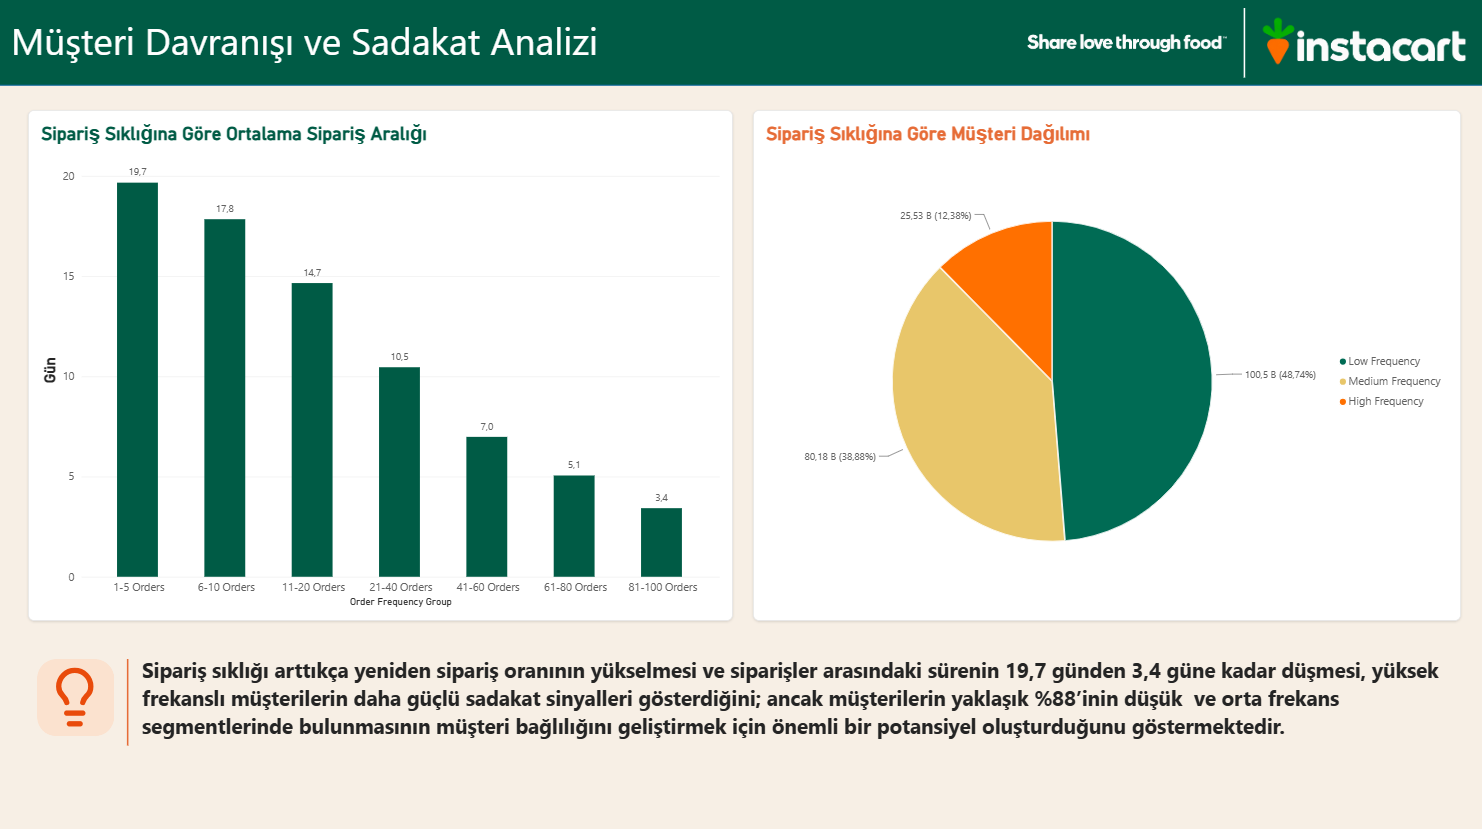

What the dashboard file says about the page in this screenshot:
{"tool":"powerbi","page":{"name":"Müşteri Davranışı ve Sadakat Analizi","canvas":[1920,1080],"ordinal":5},"visuals":[{"type":"image","box":[1323.3,0,271.4,112.3],"z":0,"group":"g1"},{"type":"clusteredColumnChart","title":"Sipariş Sıklığına Göre Ortalama Sipariş Aralığı","fields":{"Category":["mart_customer_behavior.Order Frequency Group"],"Y":["Avg(mart_customer_behavior.avg_days_between_orders)"]},"box":[37.9,143,911.9,660.9],"z":0},{"type":"shape","box":[49.5,853.5,100,100],"z":0,"group":"g2"},{"type":"shape","box":[0,0,1920.3,112],"z":1000},{"type":"shape","box":[1583,11.7,55.4,90.5],"z":1000,"group":"g1"},{"type":"image","box":[37.9,860.8,120.7,82.9],"z":1000,"group":"g2"},{"type":"pieChart","title":"Sipariş Sıklığına Göre Müşteri Dağılımı","fields":{"Category":["mart_customer_behavior.Customer Frequency Segment"],"Y":["Count(mart_customer_behavior.user_id)"]},"box":[976,143,916.2,660.9],"z":2000},{"type":"shape","box":[129.5,853.5,74.2,112],"z":2000,"group":"g2"},{"type":"textbox","box":[185.3,850.6,1707,150.3],"z":3000},{"type":"image","box":[1614.6,0,305.4,111.9],"z":4000},{"type":"textbox","box":[16,20.4,860.8,91.9],"z":5000},{"type":"group","id":"g1","title":"Grup 8","box":[1323.3,0,315.1,112.3],"z":6000},{"type":"group","id":"g2","title":"Grup 1","box":[37.9,853.5,166.3,112.3],"z":7000}]}

Visuals, with their boxes in screenshot pixels (x1, y1, x2, y2), scaled from the page's 1920x1080 canvas onto the 1482x829 screenshot:
image: [x1=1021, y1=0, x2=1231, y2=86]
"Sipariş Sıklığına Göre Ortalama Sipariş Aralığı" clusteredColumnChart: [x1=29, y1=110, x2=733, y2=617]
shape: [x1=38, y1=655, x2=115, y2=732]
shape: [x1=0, y1=0, x2=1481, y2=86]
shape: [x1=1222, y1=9, x2=1265, y2=78]
image: [x1=29, y1=661, x2=122, y2=724]
"Sipariş Sıklığına Göre Müşteri Dağılımı" pieChart: [x1=753, y1=110, x2=1461, y2=617]
shape: [x1=100, y1=655, x2=157, y2=741]
textbox: [x1=143, y1=653, x2=1461, y2=768]
image: [x1=1246, y1=0, x2=1481, y2=86]
textbox: [x1=12, y1=16, x2=677, y2=86]
"Grup 8" group: [x1=1021, y1=0, x2=1265, y2=86]
"Grup 1" group: [x1=29, y1=655, x2=158, y2=741]
